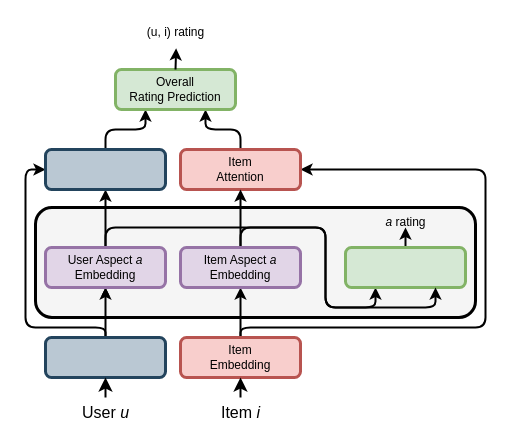
Some shapes in this 511 by 444 pixel diagram are drawn without their labels. Here are the shapes that lost their labels. From the top down, the centre of each, then its label:
point (105, 169): User Attention
point (405, 267): Aspect a Rating Prediction
point (105, 357): User Embedding
